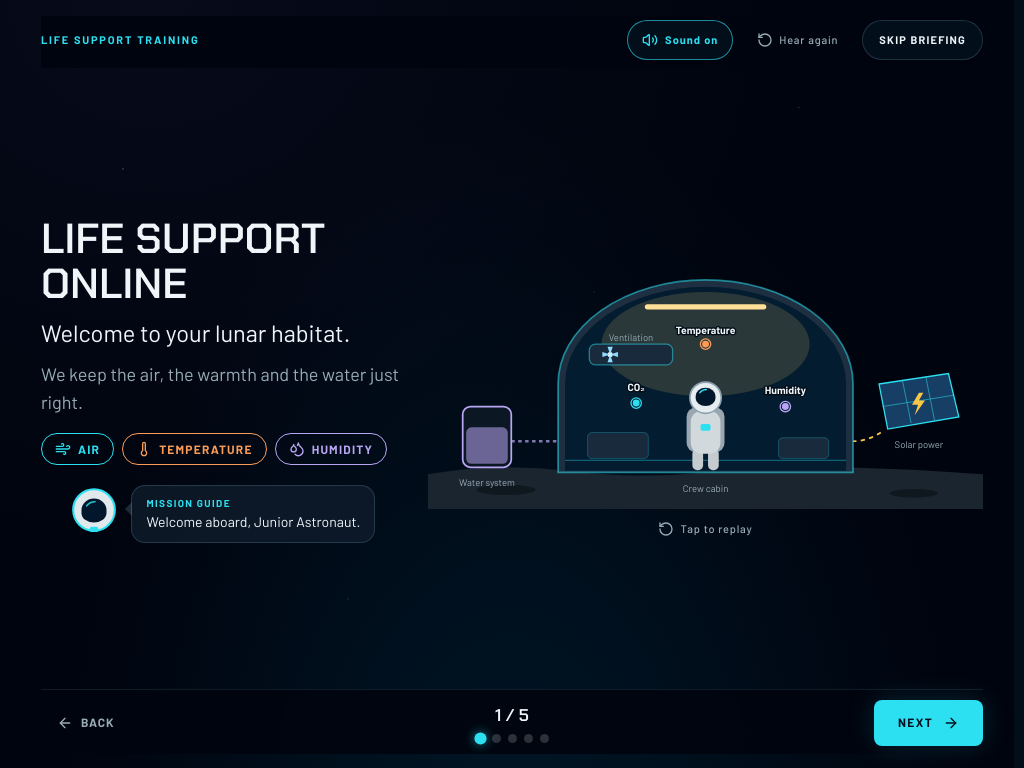
Test: Sound controls › goes quiet when the briefing is skipped
Click the button "SKIP BRIEFING" at (923, 40), box [862,20,983,60]
Wait 300 ms
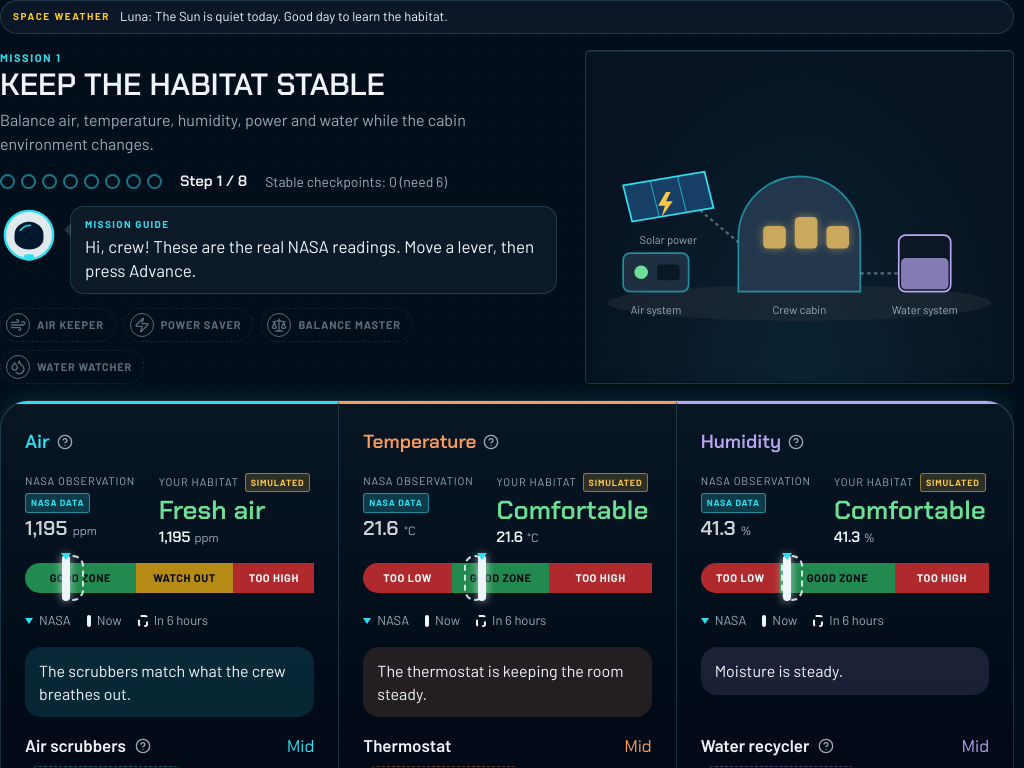
Expected: the dialog "Life Support training briefing" is gone
